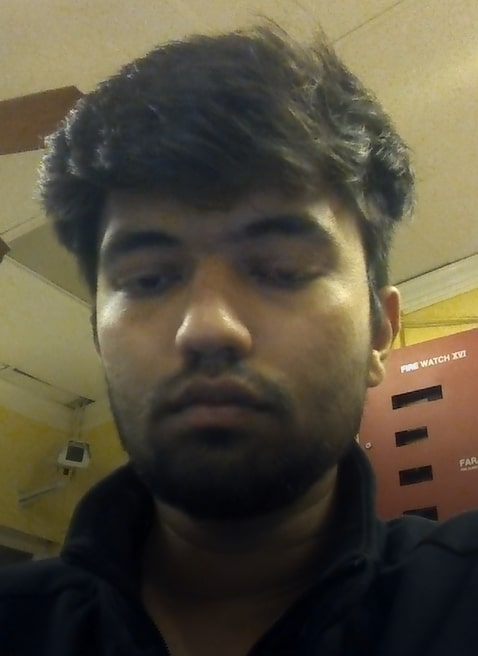Half Asleep: (98, 245, 342, 316)
